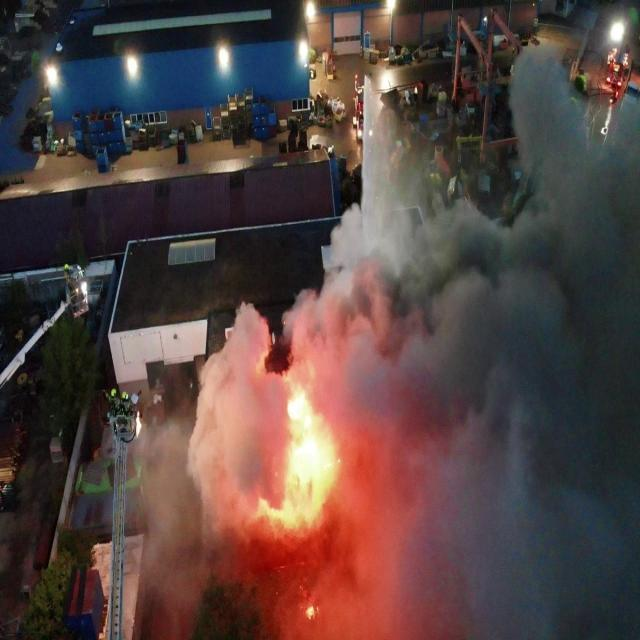Fire: (292, 434, 333, 482), (286, 391, 312, 429)
Smoke: (133, 42, 640, 640)
